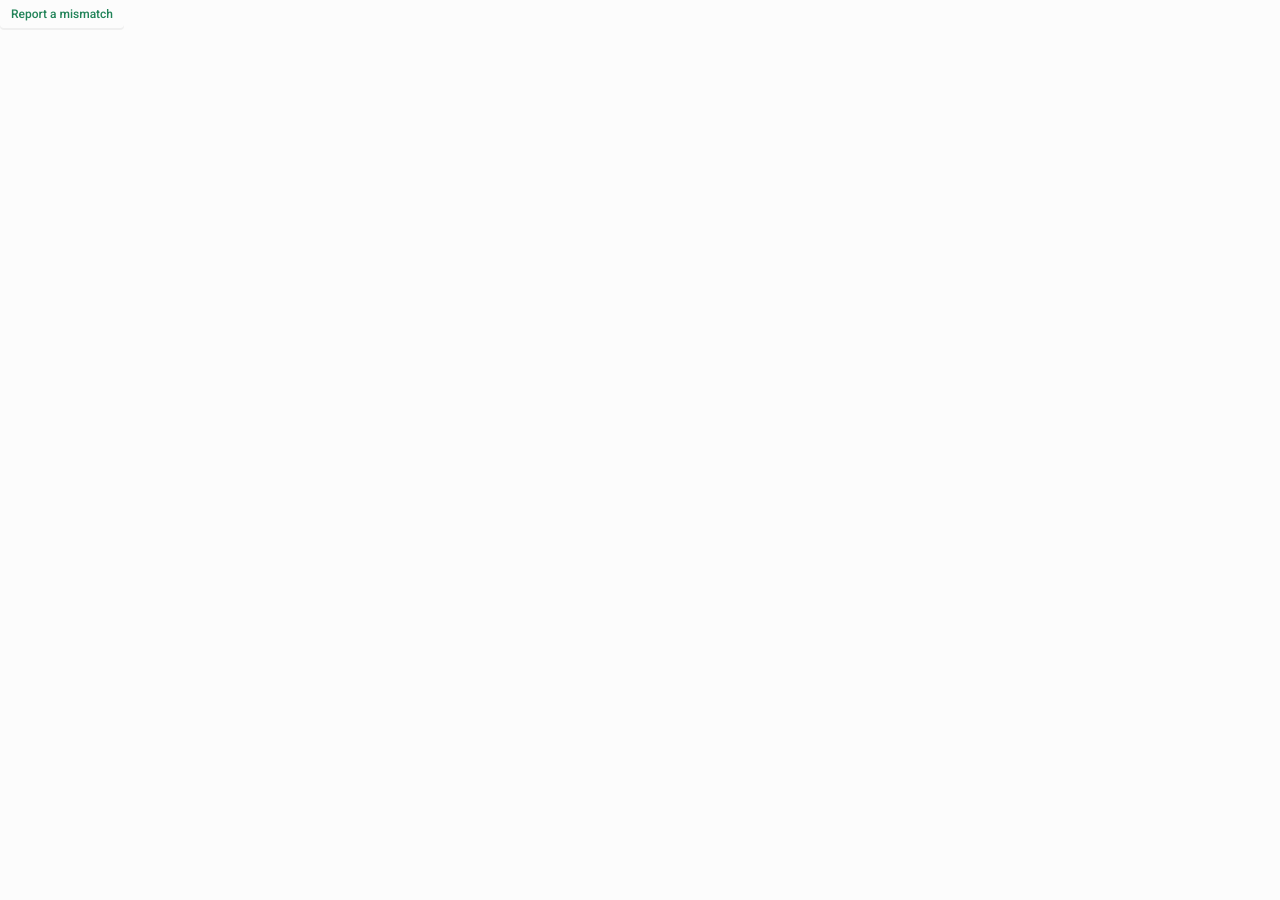
Test: ReportDialog › asks for a proposed value and sends nothing without one
Click the button "Report a mismatch".
click(62, 14)  # box [0,0,124,28]
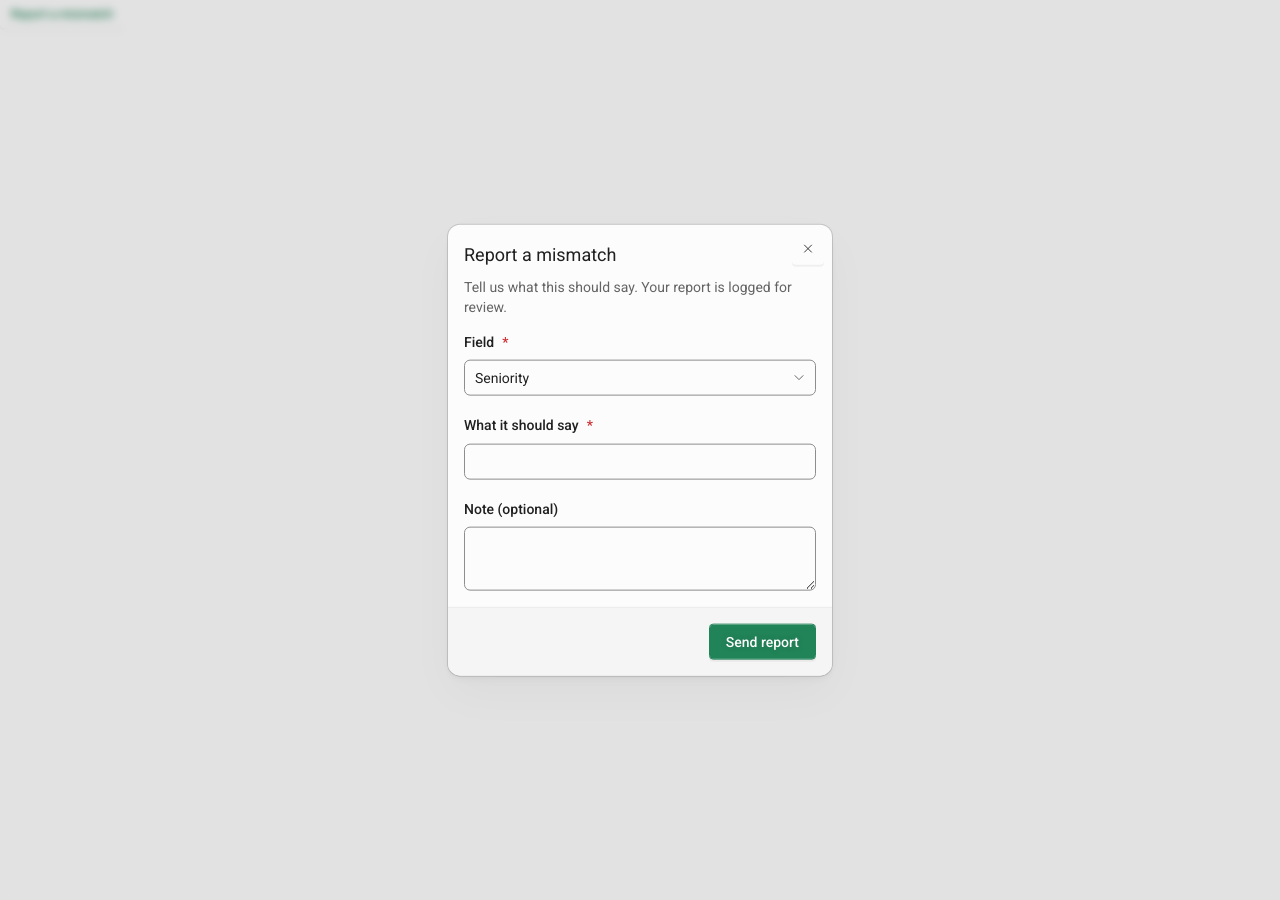
Click the button "Send report".
click(762, 641)  # box [709,623,816,659]
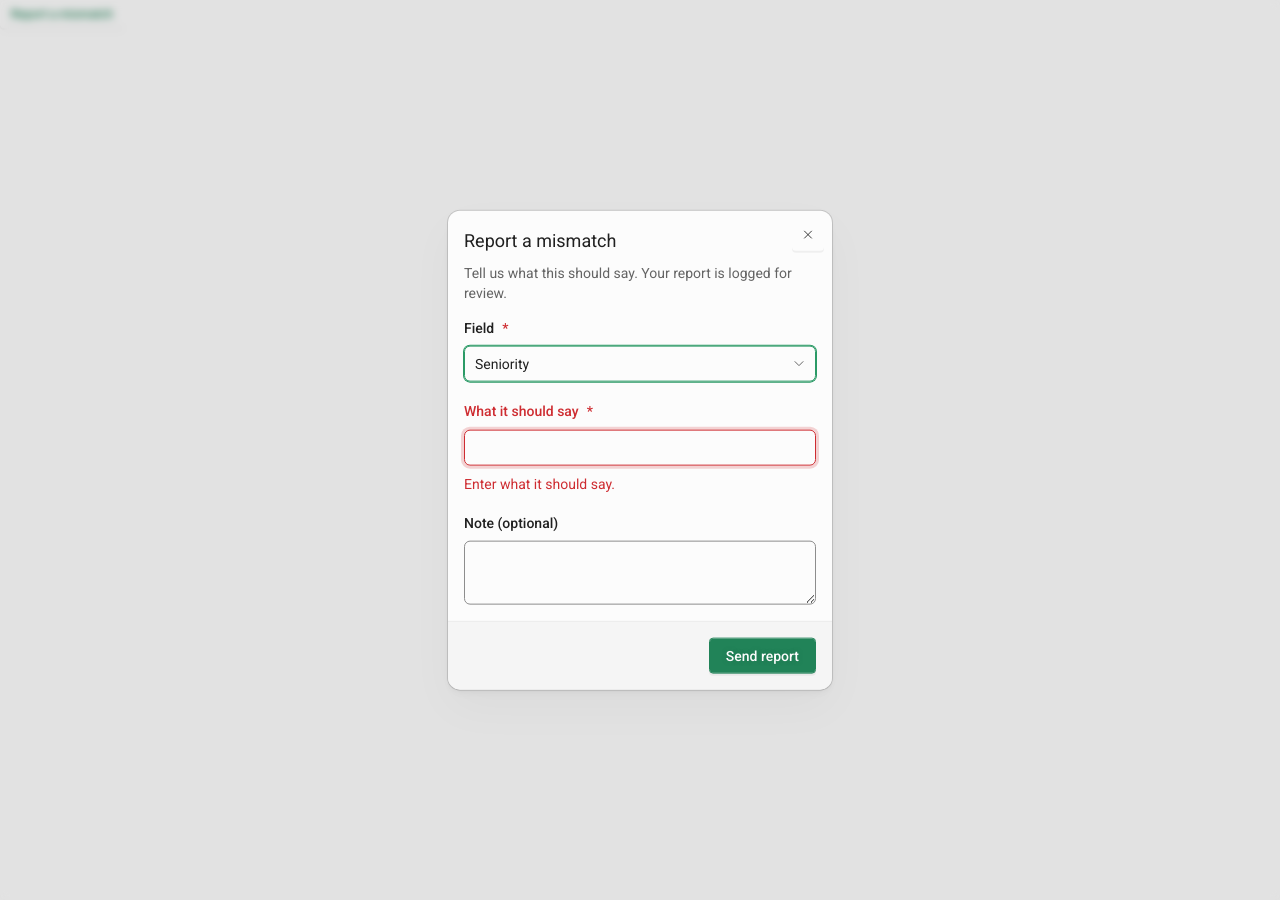
Now the text "Enter what it should say." is shown, box [464,475,615,491]
